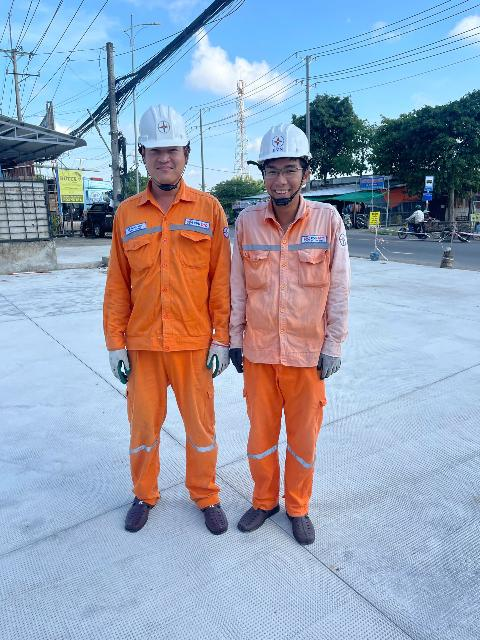gloves: (99, 338, 142, 387), (313, 336, 343, 388), (207, 333, 232, 378), (224, 331, 246, 378)
helmet: (120, 91, 196, 167), (243, 123, 316, 172)
shoes: (118, 481, 168, 533), (280, 492, 323, 545), (231, 489, 274, 533), (186, 496, 228, 536)
